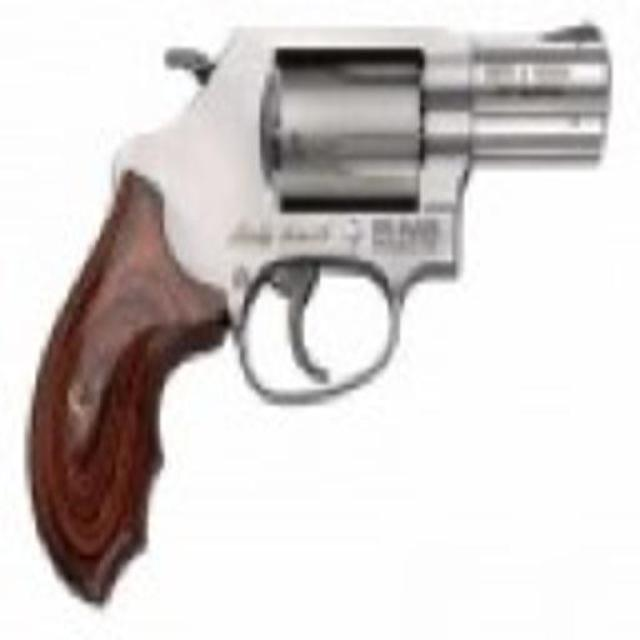pistol: (28, 5, 604, 602)
